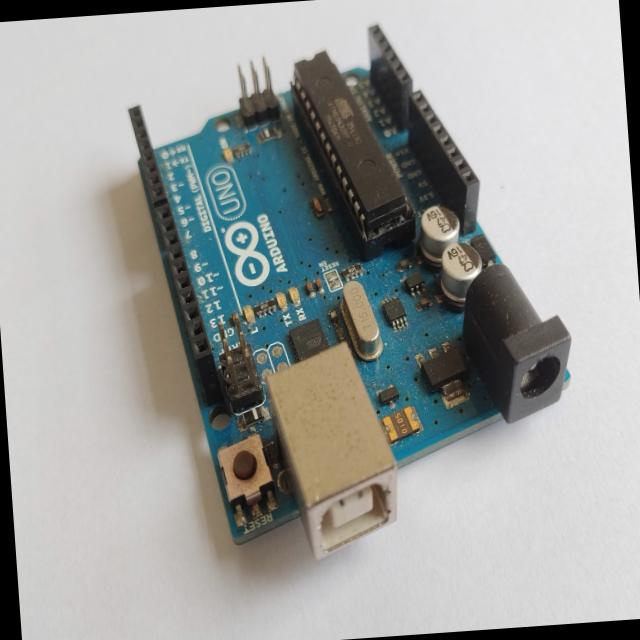arduino: (92, 0, 583, 554)
